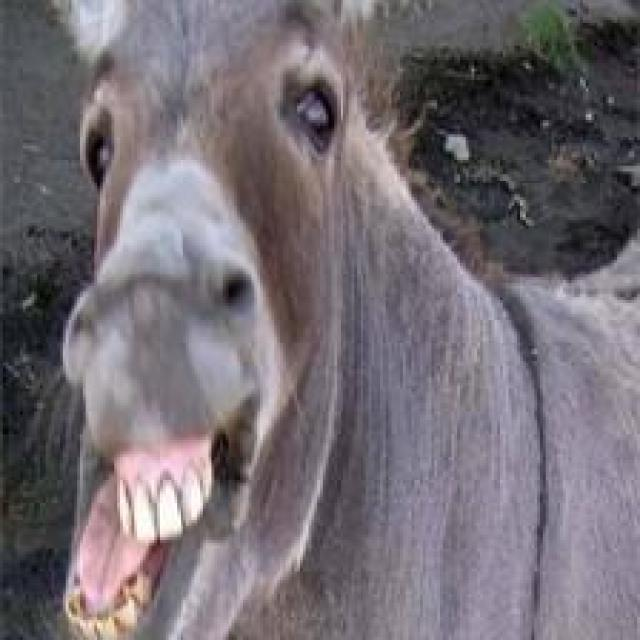Donkey: (23, 0, 637, 637)
